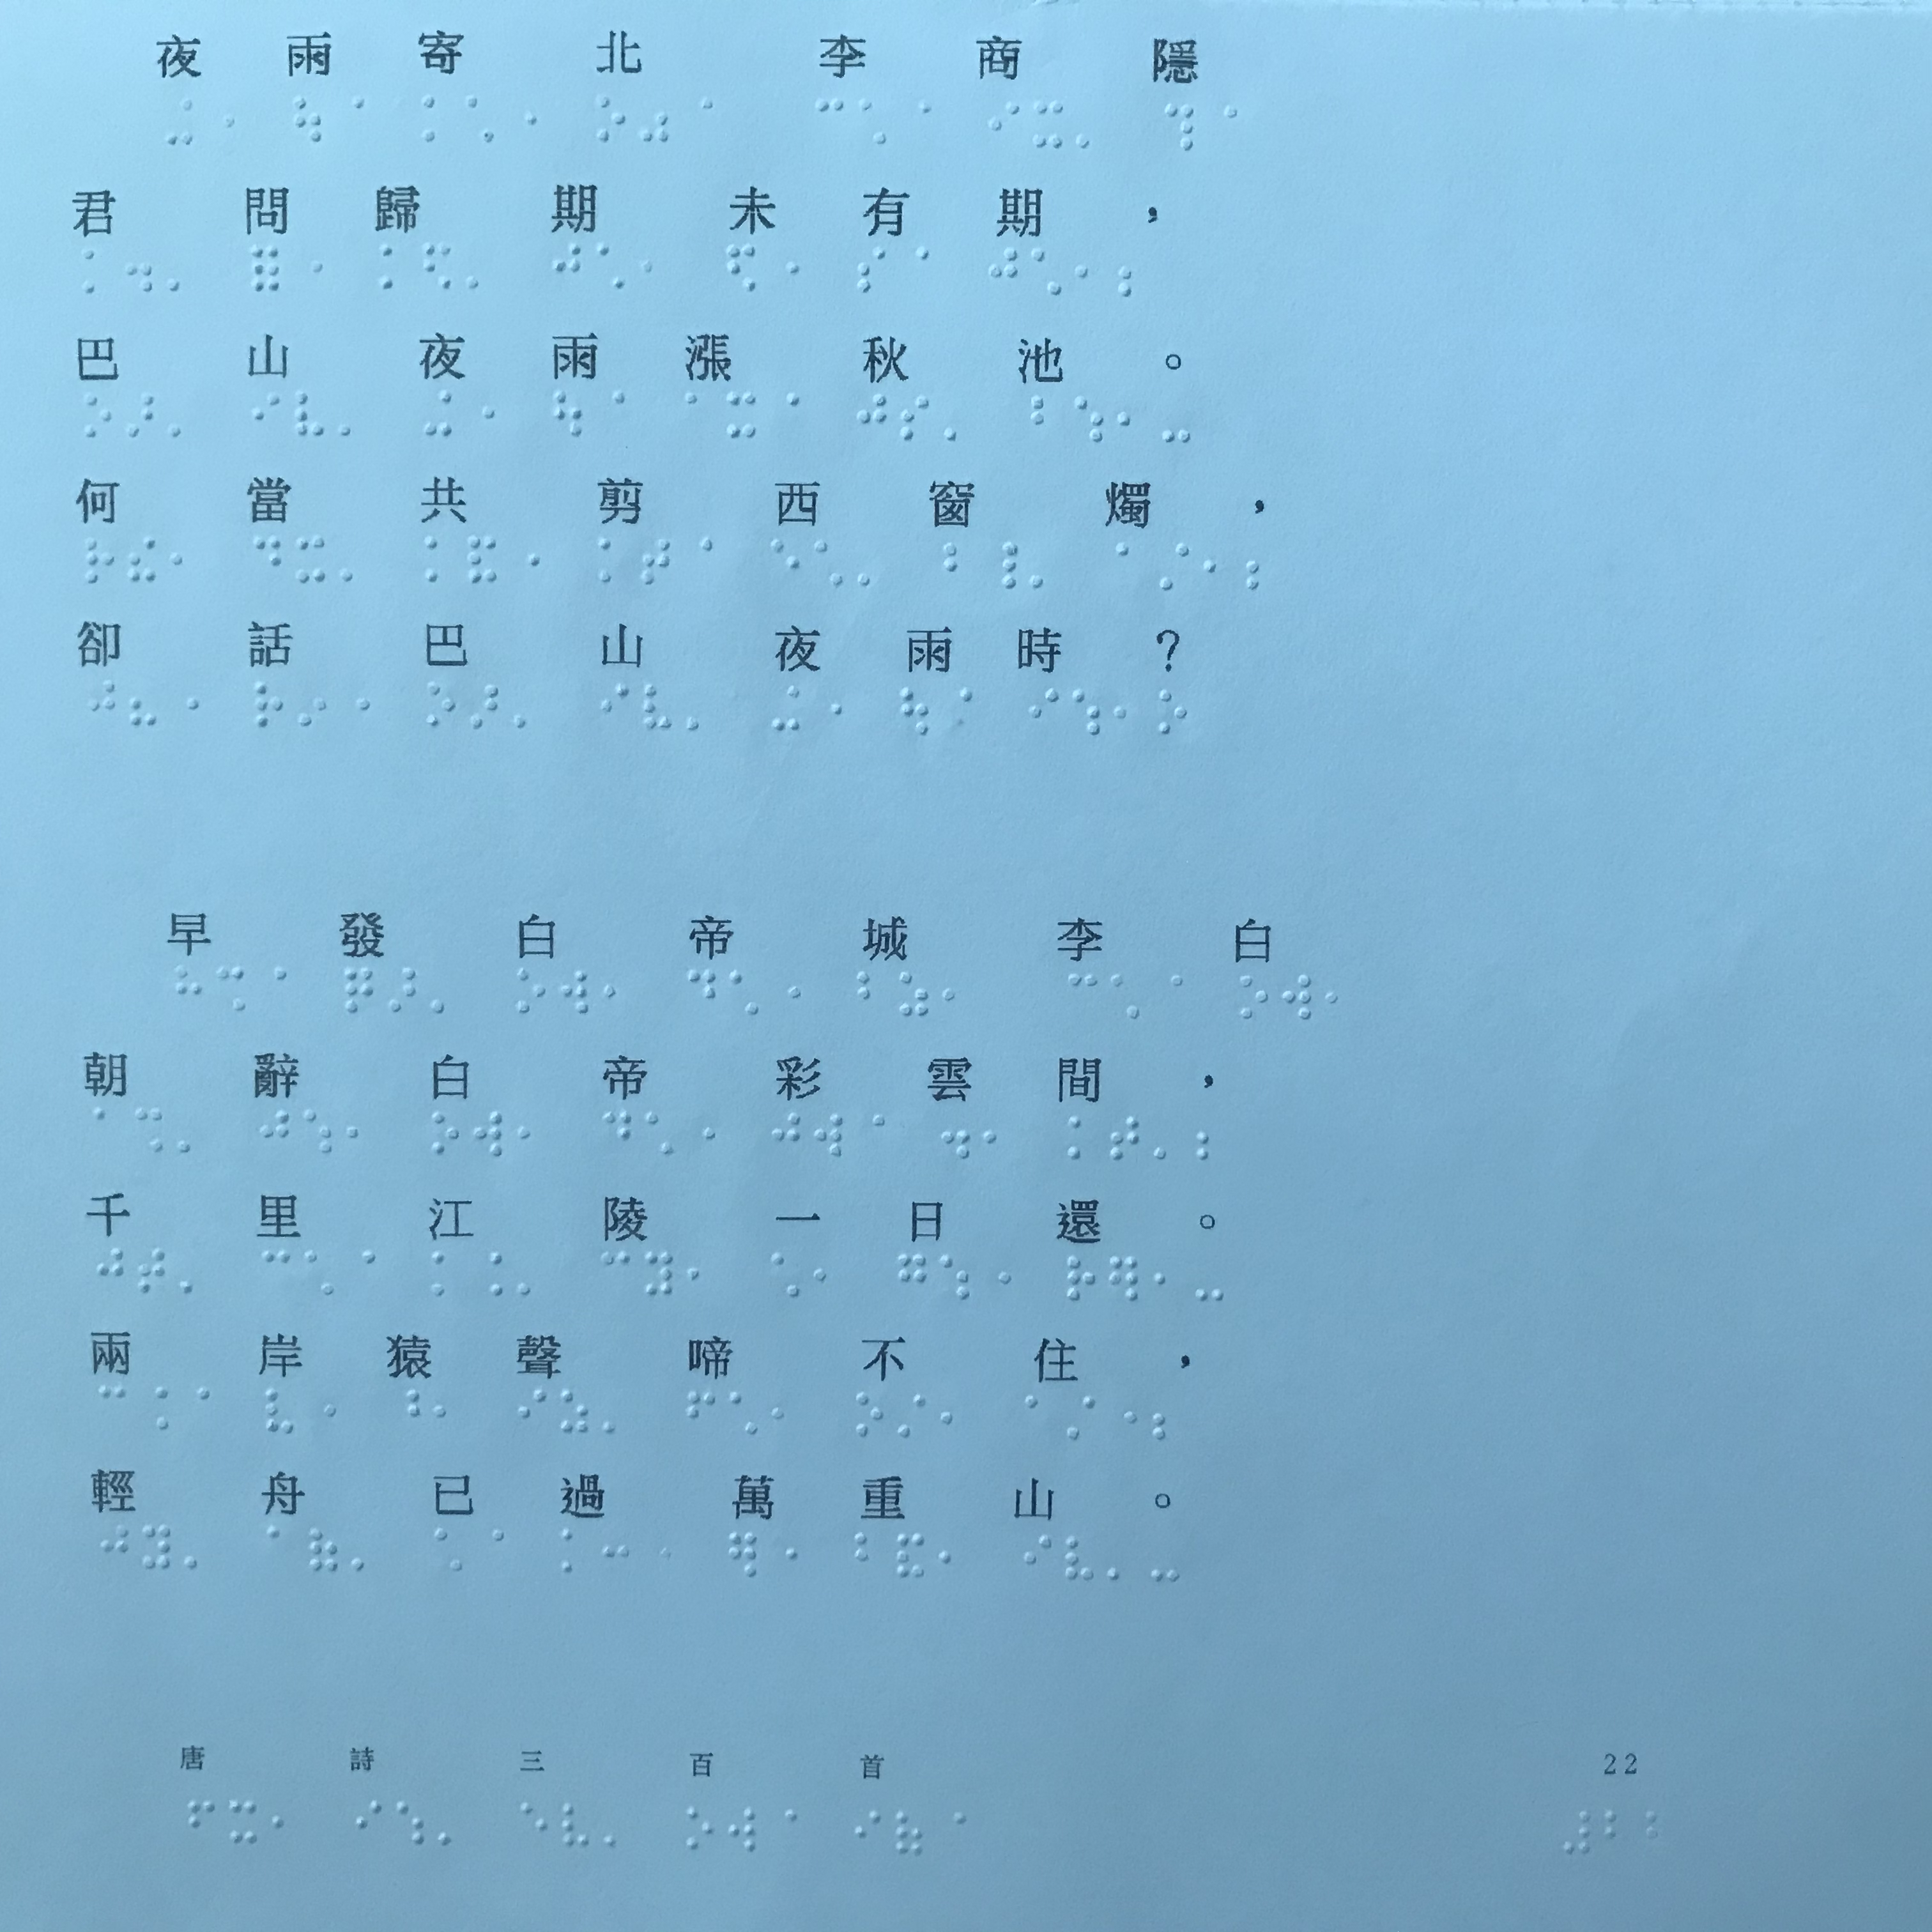Braille: (724, 389, 761, 441), (897, 1246, 929, 1304), (465, 92, 499, 147), (1162, 99, 1194, 156), (1031, 244, 1063, 301), (295, 531, 327, 587), (294, 96, 326, 150), (85, 676, 117, 731), (897, 964, 929, 1019), (379, 241, 410, 294), (552, 389, 584, 442), (855, 391, 886, 444), (1072, 391, 1104, 444), (1028, 685, 1060, 738), (895, 1530, 929, 1580), (1035, 97, 1065, 152), (1118, 244, 1148, 299), (131, 676, 161, 731), (642, 679, 672, 734), (391, 1385, 421, 1440), (421, 92, 453, 143), (1207, 103, 1238, 154), (421, 239, 453, 290), (83, 536, 115, 587), (897, 685, 929, 736), (686, 964, 718, 1016), (1325, 975, 1357, 1026), (92, 1102, 124, 1154), (600, 1246, 632, 1297), (851, 1808, 883, 1859), (165, 94, 195, 147), (593, 92, 623, 145), (255, 534, 285, 587), (1159, 685, 1189, 738), (1113, 970, 1143, 1023), (855, 1389, 885, 1442), (1562, 1806, 1592, 1859), (729, 241, 761, 290), (124, 391, 156, 441), (943, 543, 975, 593), (341, 964, 373, 1014), (384, 964, 416, 1014), (893, 1808, 925, 1858), (1606, 1805, 1638, 1854), (127, 241, 156, 295), (989, 244, 1017, 299), (294, 386, 322, 441), (731, 966, 759, 1021), (143, 1518, 172, 1573), (1203, 538, 1230, 596), (175, 961, 202, 1019), (639, 92, 669, 143), (989, 97, 1019, 149), (552, 241, 582, 292), (858, 242, 888, 294), (899, 241, 929, 292), (901, 391, 931, 442), (985, 541, 1016, 593), (297, 679, 327, 731), (1284, 973, 1315, 1024), (304, 1246, 334, 1297), (644, 1247, 674, 1299), (941, 1251, 971, 1302), (517, 1389, 547, 1440), (899, 1389, 929, 1440), (941, 1391, 971, 1442), (464, 242, 495, 290), (472, 1111, 504, 1159), (1063, 1254, 1095, 1302), (140, 1387, 172, 1435), (184, 1796, 216, 1844), (862, 94, 890, 147), (1076, 246, 1104, 299), (1031, 391, 1060, 444), (644, 534, 672, 587), (1155, 970, 1184, 1023), (770, 1249, 798, 1302), (644, 1525, 672, 1578), (639, 241, 669, 290), (426, 389, 456, 439), (471, 681, 501, 731), (515, 964, 545, 1014), (1069, 968, 1099, 1017), (264, 1387, 294, 1437), (308, 1387, 338, 1437), (559, 1387, 589, 1437), (308, 1523, 338, 1573), (1023, 1536, 1054, 1582), (207, 94, 235, 145), (817, 94, 846, 145), (594, 241, 623, 292), (85, 391, 113, 442), (685, 386, 713, 437), (1116, 393, 1145, 444), (469, 533, 497, 584), (255, 679, 283, 731), (773, 683, 801, 734), (1076, 686, 1104, 738), (138, 1242, 166, 1293), (814, 1249, 842, 1300), (1109, 1389, 1138, 1440), (99, 1520, 127, 1571), (683, 92, 713, 140), (336, 389, 366, 437), (596, 389, 626, 437), (338, 536, 368, 584), (1238, 973, 1269, 1021), (605, 1389, 635, 1437), (727, 1389, 757, 1437), (520, 1799, 550, 1847), (81, 244, 108, 297), (1164, 393, 1191, 446), (129, 531, 156, 584), (817, 538, 844, 591), (175, 676, 202, 729), (426, 678, 453, 731), (686, 1246, 713, 1299), (437, 1523, 464, 1576), (773, 540, 801, 589), (561, 964, 589, 1014), (771, 971, 800, 1021), (306, 1106, 334, 1155), (984, 1251, 1012, 1300), (1111, 1254, 1139, 1304), (1028, 1391, 1056, 1440), (184, 1523, 212, 1573), (683, 536, 713, 582), (1161, 545, 1191, 591), (683, 685, 713, 731), (1111, 1115, 1141, 1161), (1194, 1115, 1224, 1161), (685, 1391, 715, 1437), (600, 1527, 630, 1573), (274, 1801, 304, 1847), (685, 1803, 715, 1849), (511, 92, 538, 143), (255, 244, 281, 295), (467, 386, 494, 437), (598, 533, 625, 584), (858, 968, 885, 1019), (943, 968, 970, 1019), (219, 961, 244, 1016), (170, 389, 198, 437), (1031, 540, 1060, 587), (773, 1111, 801, 1159), (856, 1111, 885, 1159), (180, 1389, 209, 1437), (770, 1389, 798, 1437), (1155, 1392, 1184, 1440), (1063, 1536, 1092, 1583), (1152, 1539, 1180, 1587), (260, 1109, 290, 1154), (1196, 1258, 1226, 1302), (352, 1799, 382, 1844), (172, 534, 196, 587), (1247, 545, 1274, 594), (345, 678, 370, 731), (138, 1104, 165, 1154), (817, 1111, 844, 1161), (267, 1520, 294, 1569), (731, 1532, 757, 1582), (1104, 1536, 1131, 1585), (336, 97, 364, 143), (1115, 541, 1143, 587), (600, 683, 628, 729), (814, 685, 842, 731), (686, 1113, 715, 1159), (943, 1115, 971, 1161), (770, 1534, 798, 1580), (605, 1803, 633, 1849), (515, 536, 540, 587), (177, 1104, 202, 1155), (166, 246, 193, 294), (771, 242, 798, 290), (945, 393, 971, 441), (426, 536, 453, 584), (856, 541, 883, 589), (515, 683, 541, 731), (1115, 688, 1141, 736), (260, 964, 287, 1012), (603, 964, 630, 1012), (432, 1111, 458, 1159), (352, 1523, 379, 1571), (731, 1806, 757, 1854), (253, 391, 281, 435), (943, 686, 971, 731), (1154, 1118, 1182, 1162), (517, 1254, 545, 1299), (99, 1385, 127, 1430), (1070, 1392, 1099, 1437), (437, 1801, 465, 1845), (938, 1806, 966, 1851), (299, 244, 324, 294), (99, 1244, 124, 1293), (433, 1249, 458, 1299), (432, 1384, 456, 1433), (856, 1527, 881, 1576), (773, 389, 800, 435), (561, 1525, 587, 1571), (232, 1799, 258, 1845), (398, 1799, 425, 1845), (1647, 1806, 1674, 1852), (770, 1808, 798, 1851), (430, 966, 455, 1014), (984, 1111, 1008, 1159), (564, 1801, 589, 1849), (904, 99, 931, 143), (607, 1111, 633, 1155), (1069, 1115, 1095, 1159), (264, 1246, 290, 1290), (347, 1249, 373, 1293), (1076, 104, 1100, 150), (345, 1111, 370, 1157), (648, 1111, 671, 1159), (938, 1534, 961, 1582), (476, 1251, 501, 1295), (520, 1111, 543, 1157), (179, 1251, 203, 1293), (1155, 1256, 1180, 1299), (481, 1529, 504, 1571)
